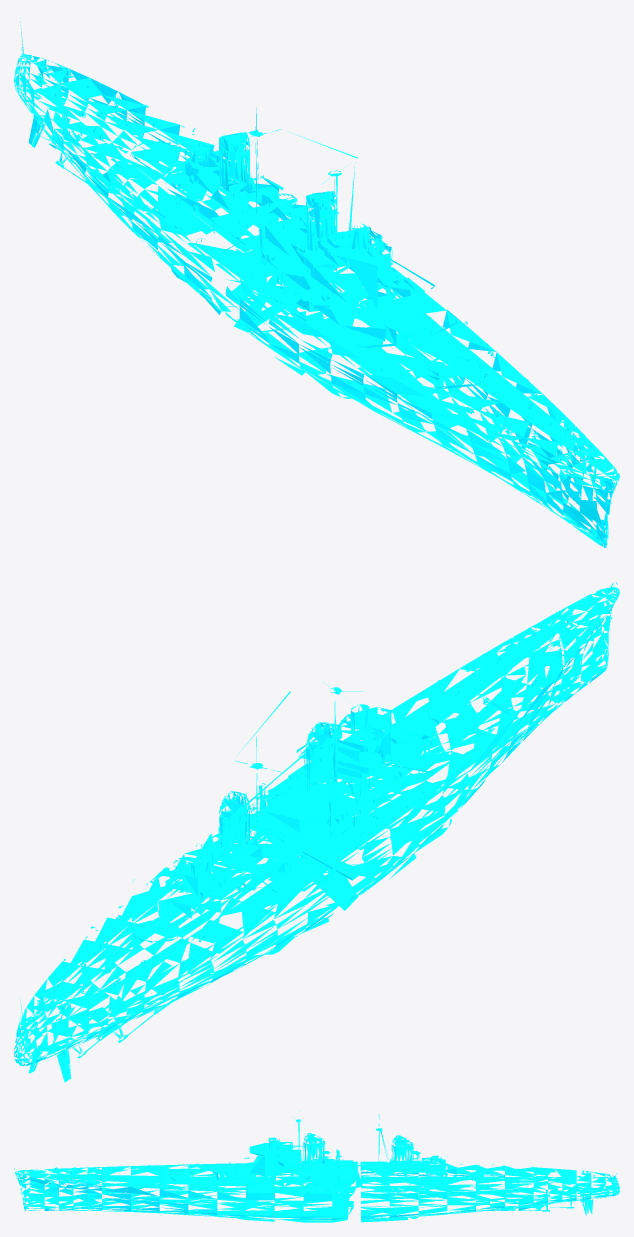
File: Haarlem.glb
The picture shows the model from 3 angles, top to bottom: view 1: azimuth 30°, elevation 25°; view 2: azimuth 150°, elevation 25°; view 3: azimuth 270°, elevation 25°; orthographic projection. The views are drawn at different scales.
Bounding box in the file's own units: 1.73 × 2.55 × 14.04.
